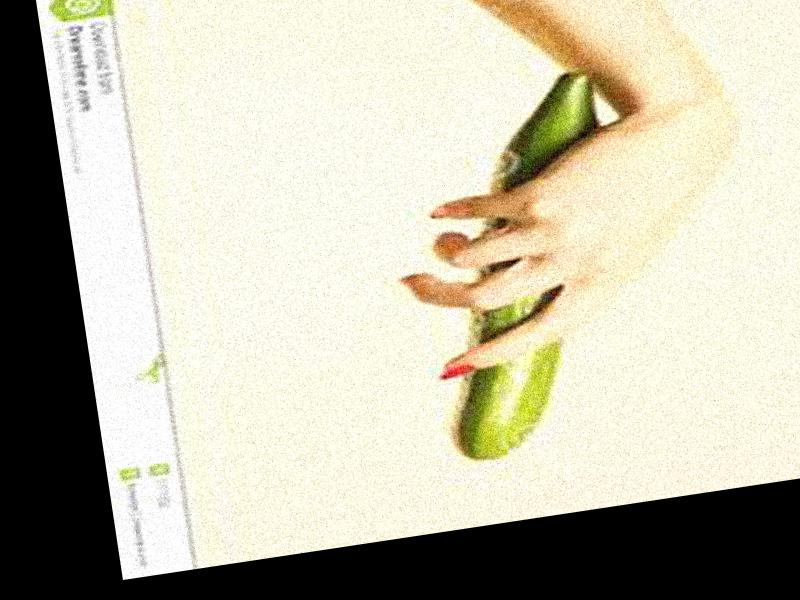Cucumber: (399, 65, 644, 464)
